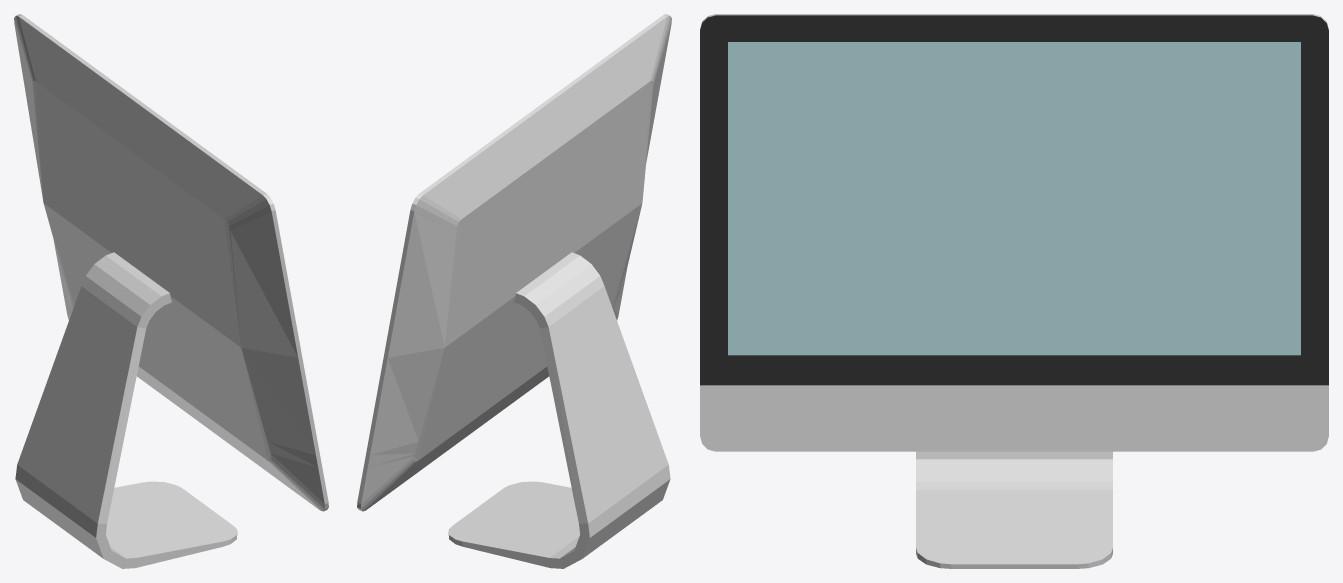
The model's file is 1337 iMac.obj.
3 views of the same model, side by side, from view 1: azimuth 30°, elevation 25°; view 2: azimuth 150°, elevation 25°; view 3: azimuth 270°, elevation 25° (orthographic). The views are drawn at different scales.
Parts seen in each view (by area): view 1: iMac; view 2: iMac; view 3: iMac.
Boxes of the visible parts, bbox=[...] form: iMac: bbox=[14, 14, 328, 568]; iMac: bbox=[357, 14, 671, 568]; iMac: bbox=[700, 14, 1328, 568].
Bounding box in the file's own units: 20.89 × 55.27 × 61.08.
Materials: 1 (1 with a texture image).
